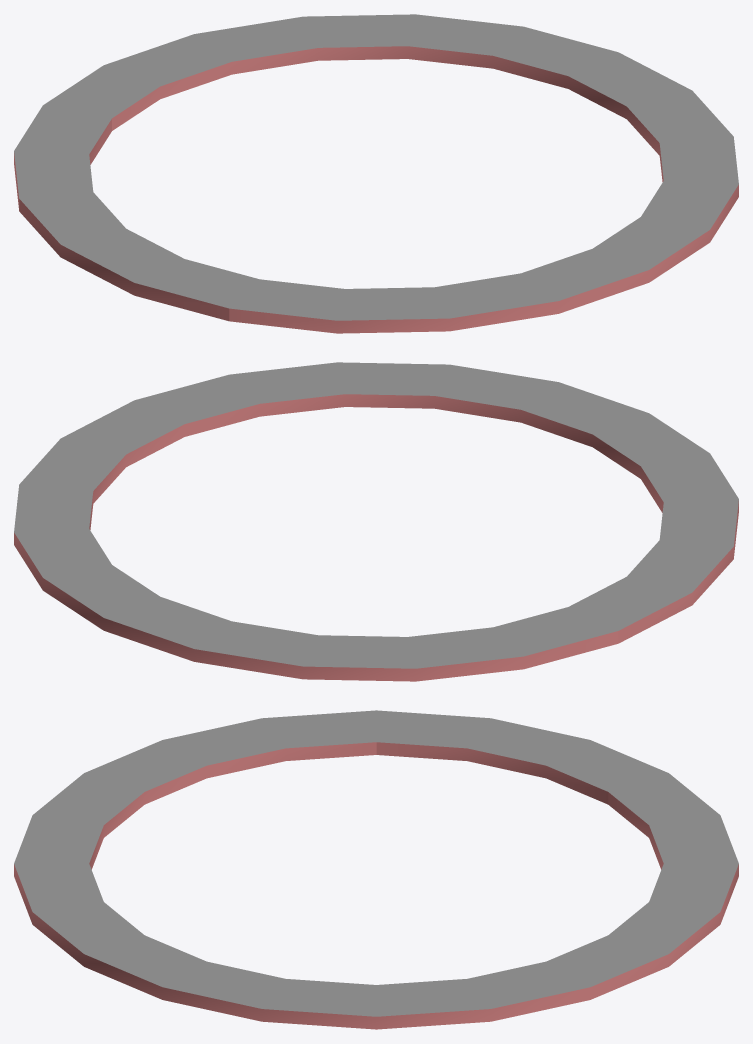
Rendered from second_roof.gltf.
3 renders of one model, top to bottom at view 1: azimuth 30°, elevation 25°; view 2: azimuth 150°, elevation 25°; view 3: azimuth 270°, elevation 25°, orthographic.
Visible parts, largest first — view 1: second_roof; view 2: second_roof; view 3: second_roof.
Part boxes in pixels (box(x1,y1,x2,y2)): second_roof: box(14, 14, 738, 333); second_roof: box(14, 362, 738, 681); second_roof: box(14, 710, 738, 1029).
Size of the model in its own units: 10.6 by 0.2056 by 10.6.
